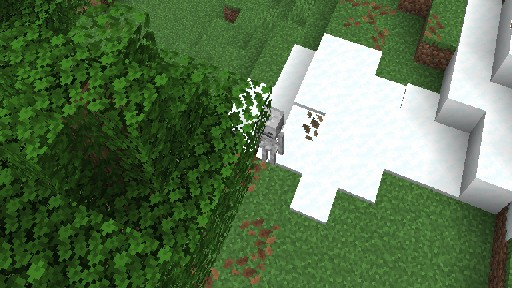skeleton: (252, 103, 284, 166)
